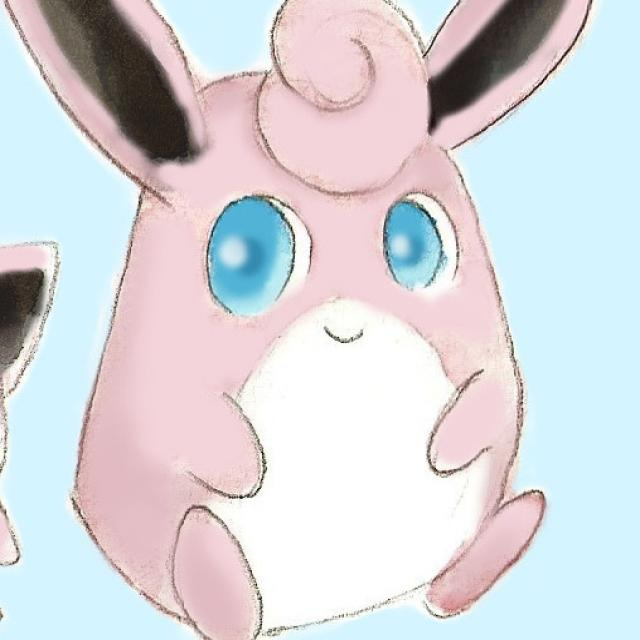Wigglytuff: (79, 0, 550, 627)
